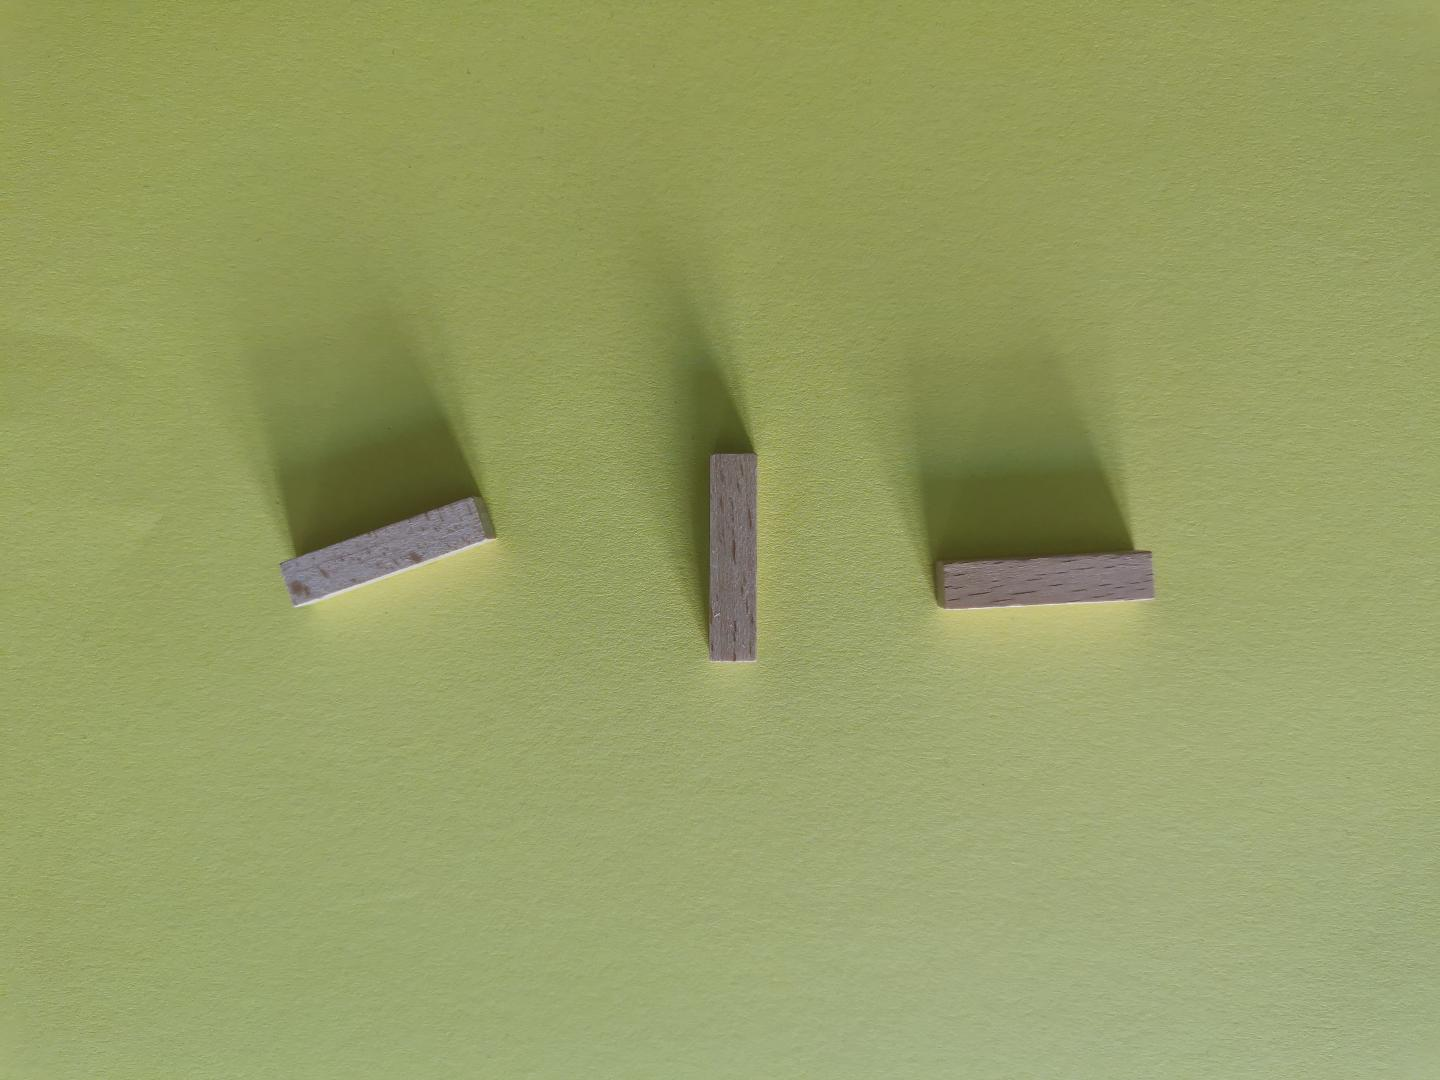jenga: (281, 498, 495, 608), (937, 551, 1153, 610), (709, 453, 756, 661)
